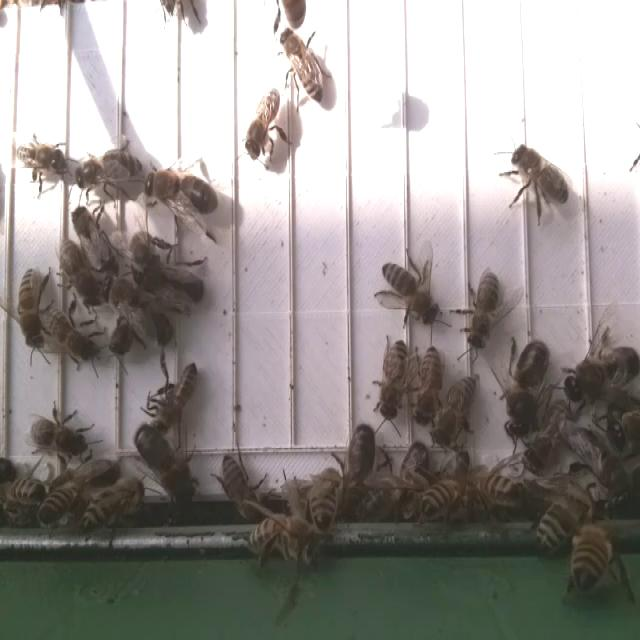Drone: (98, 271, 179, 354), (502, 339, 553, 445), (132, 419, 195, 504), (562, 341, 640, 407), (139, 166, 223, 222), (126, 255, 208, 312), (340, 422, 381, 522)
Worker: (510, 142, 571, 210), (380, 259, 441, 326), (278, 26, 328, 105), (432, 370, 480, 448), (70, 205, 118, 280), (150, 359, 199, 431), (46, 307, 101, 367), (464, 270, 501, 356), (409, 342, 445, 429), (78, 144, 145, 190), (28, 415, 90, 463), (14, 267, 47, 356), (376, 339, 407, 425), (245, 89, 281, 163), (10, 140, 70, 179)
